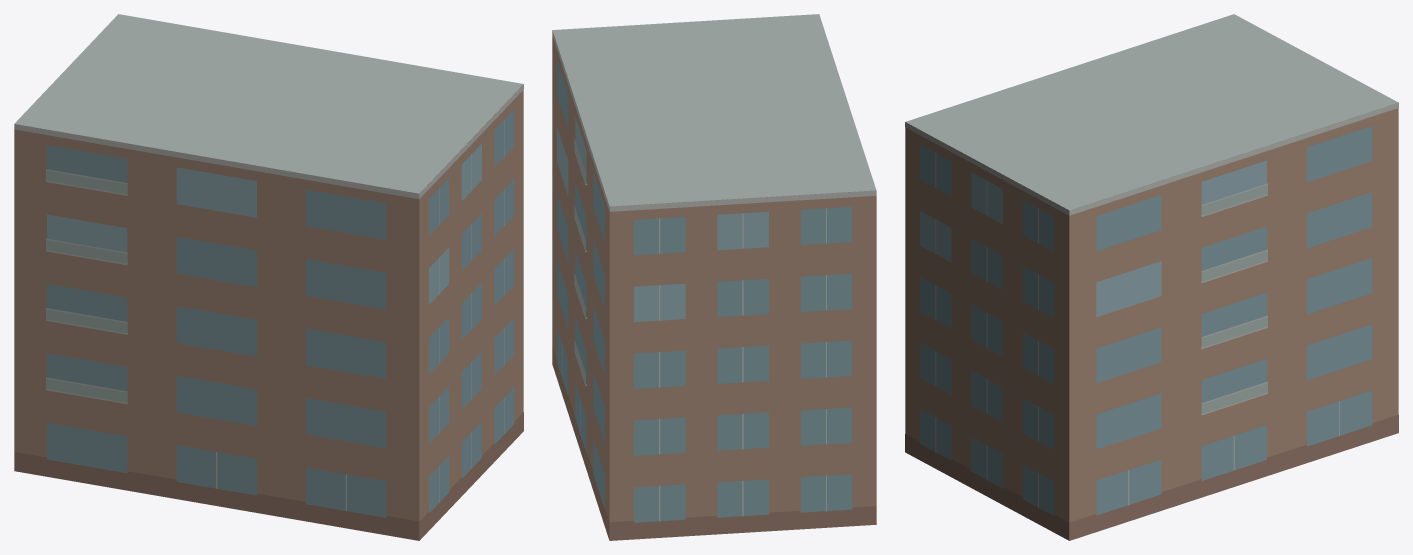
File: survey-upis-32740709.glb
3 views of the same model, side by side, from view 1: azimuth 30°, elevation 25°; view 2: azimuth 150°, elevation 25°; view 3: azimuth 270°, elevation 25° (orthographic). The views are drawn at different scales.
Parts seen in each view (by area): view 1: survey-upis-32740709.tmp; view 2: survey-upis-32740709.tmp; view 3: survey-upis-32740709.tmp.
Part boxes in pixels (x1=…): survey-upis-32740709.tmp: x1=14, y1=14, x2=523, y2=540; survey-upis-32740709.tmp: x1=552, y1=14, x2=876, y2=540; survey-upis-32740709.tmp: x1=905, y1=14, x2=1398, y2=540.
Size of the model in its own units: 19.45 by 15.25 by 20.65.
